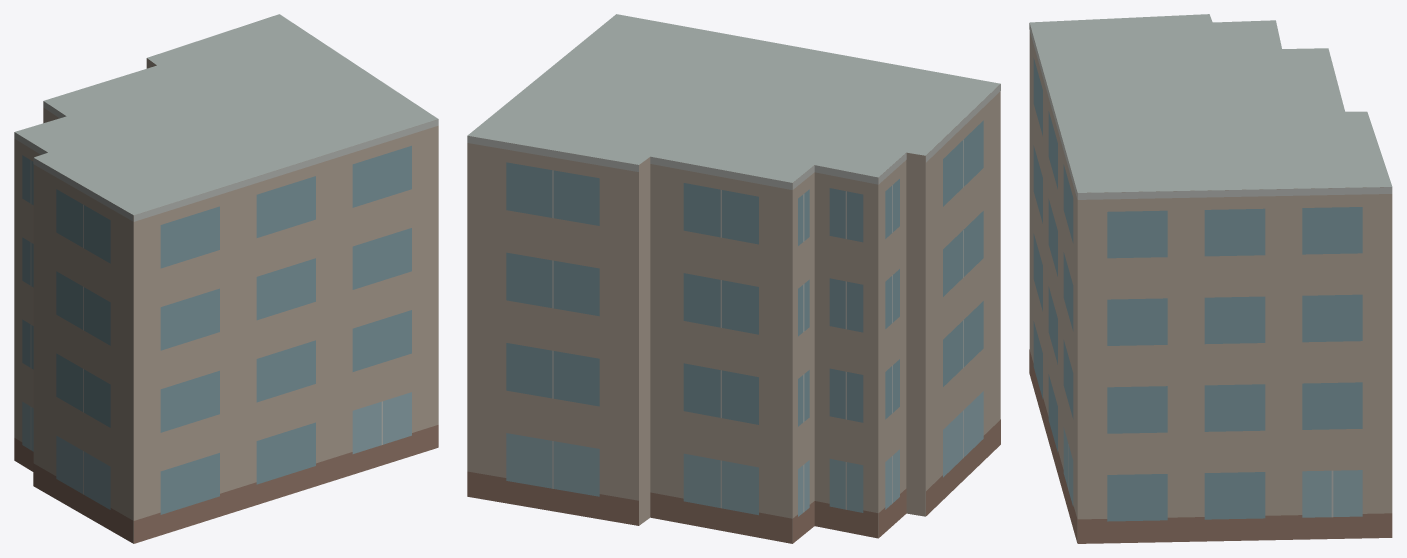
File: survey-upis-32577219.glb
3 renders of one model, left to right at view 1: azimuth 30°, elevation 25°; view 2: azimuth 150°, elevation 25°; view 3: azimuth 270°, elevation 25°, orthographic. The views are drawn at different scales.
Parts seen in each view (by area): view 1: survey-upis-32577219.tmp; view 2: survey-upis-32577219.tmp; view 3: survey-upis-32577219.tmp.
Part boxes in pixels (box(x1,y1,x2,y2)): survey-upis-32577219.tmp: box(14, 14, 438, 543); survey-upis-32577219.tmp: box(467, 14, 1000, 543); survey-upis-32577219.tmp: box(1029, 14, 1392, 543).
Size of the model in its own units: 13.35 by 12.2 by 11.45.
